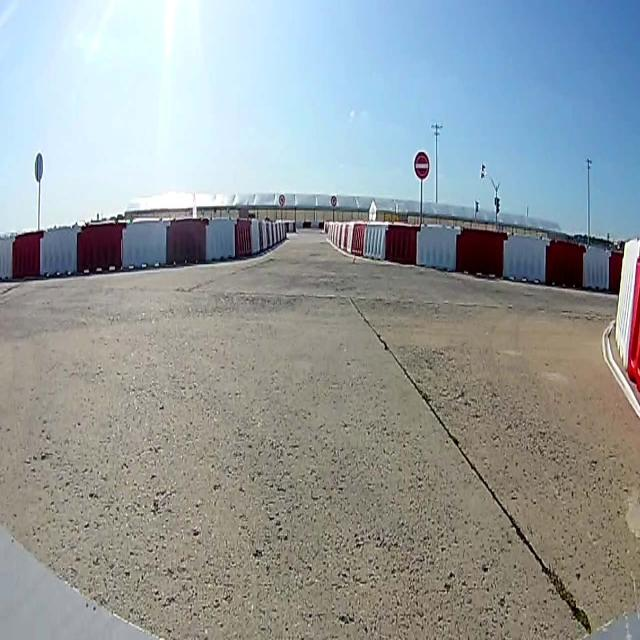girisyok: (413, 151, 431, 180)
